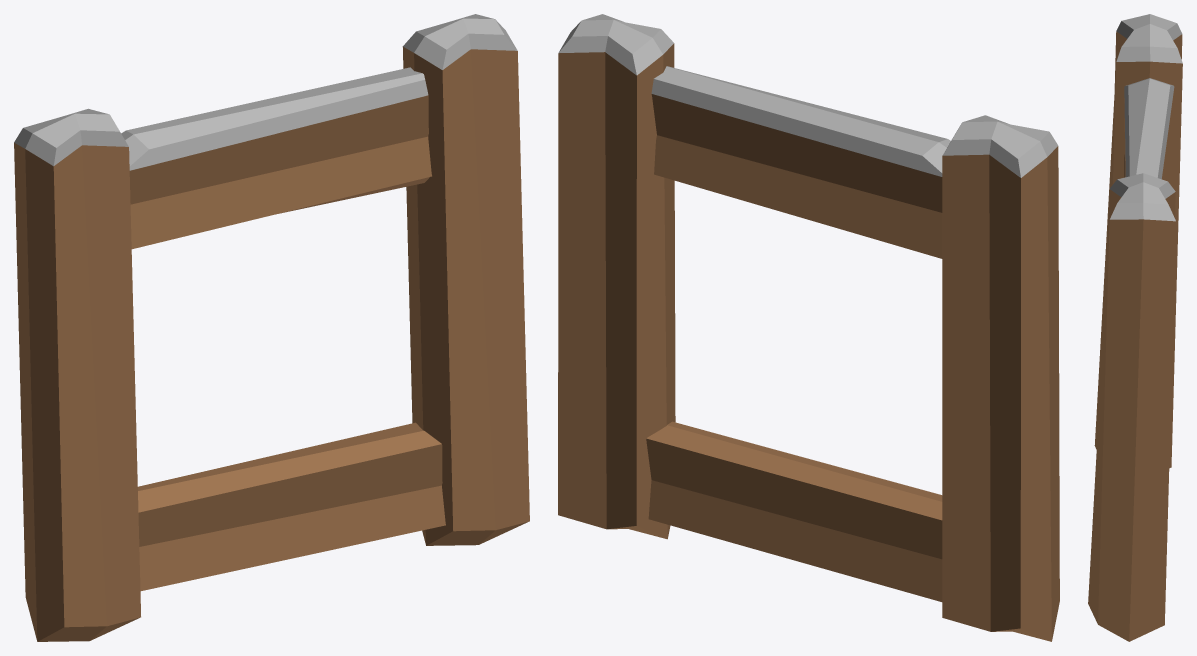
Rendered from Fence_3 Door Winter.fbx.
3 views of the same model, side by side, from view 1: azimuth 30°, elevation 25°; view 2: azimuth 150°, elevation 25°; view 3: azimuth 270°, elevation 25° (orthographic). The views are drawn at different scales.
Parts seen in each view (by area): view 1: Fence3DoorWinter_mesh; view 2: Fence3DoorWinter_mesh; view 3: Fence3DoorWinter_mesh.
Part boxes in pixels (x1,y1,x2,y2): Fence3DoorWinter_mesh: (14, 14, 529, 641); Fence3DoorWinter_mesh: (558, 14, 1059, 641); Fence3DoorWinter_mesh: (1088, 14, 1182, 641).
Bounding box in the file's own units: 70.85 × 73.39 × 14.04.
